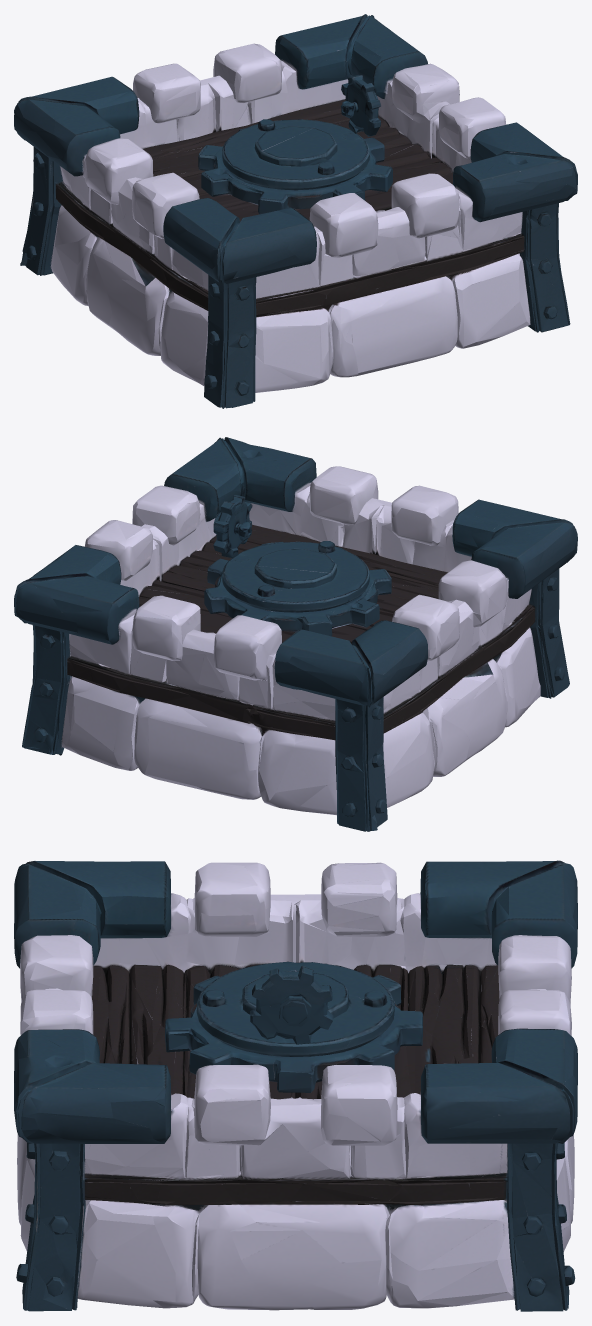
The model's file is body.glb.
3 renders of one model, top to bottom at view 1: azimuth 30°, elevation 25°; view 2: azimuth 150°, elevation 25°; view 3: azimuth 270°, elevation 25°, orthographic. The views are drawn at different scales.
Bounding box in the file's own units: 1.9 × 1.04 × 1.9.
Materials: 1 (1 with a texture image).
